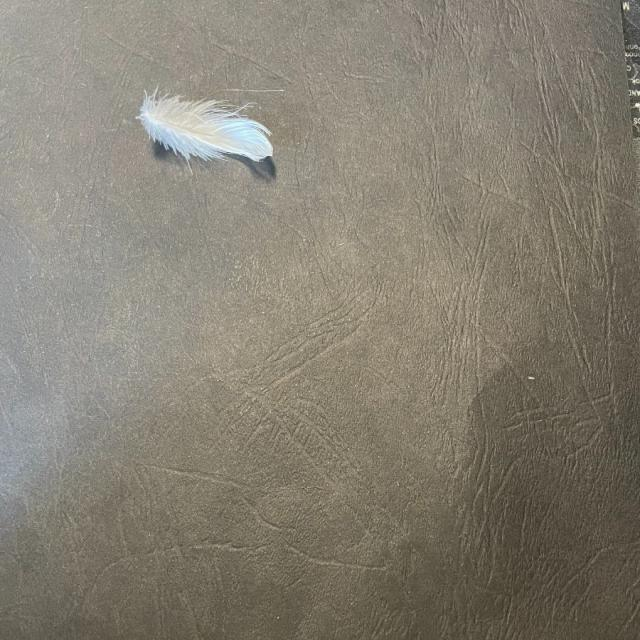feather: (137, 88, 275, 164)
